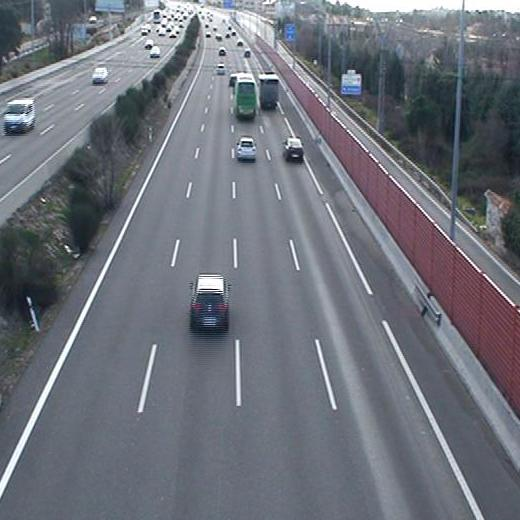bus: (235, 71, 258, 119)
car: (192, 274, 231, 335), (236, 137, 257, 162), (284, 137, 304, 161), (216, 64, 225, 76), (244, 49, 252, 59), (219, 48, 226, 56)
small-truck: (261, 74, 279, 108)
